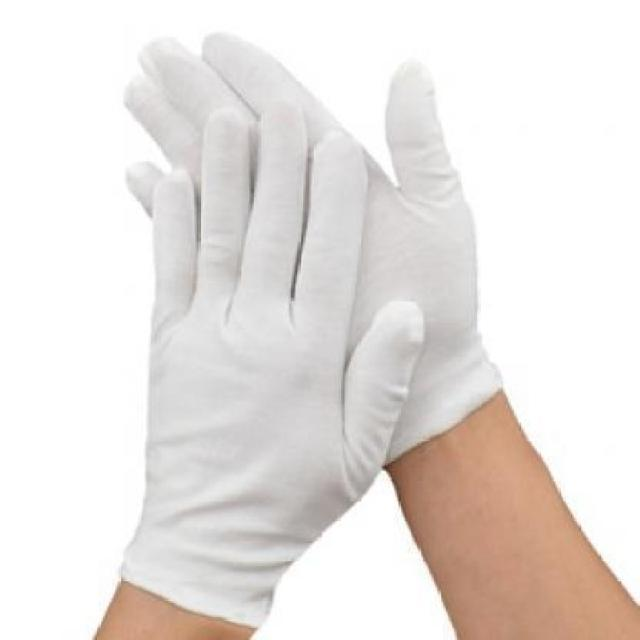hand_glove: (122, 101, 426, 564), (112, 27, 473, 395)
